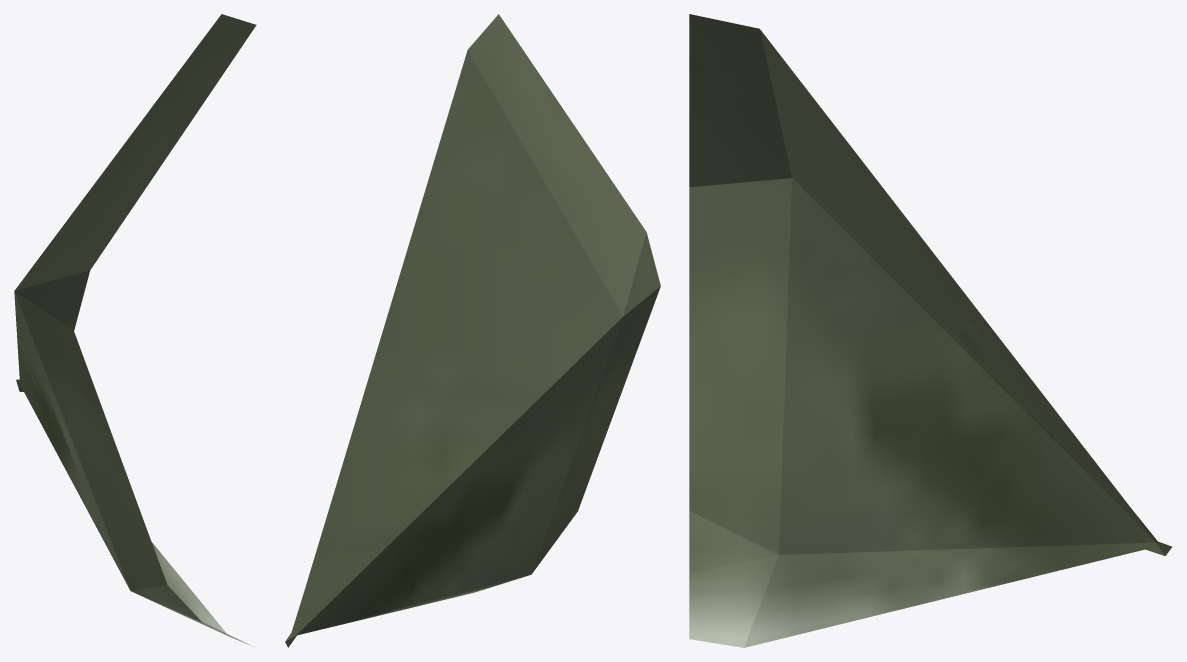
3 renders of one model, left to right at view 1: azimuth 30°, elevation 25°; view 2: azimuth 150°, elevation 25°; view 3: azimuth 270°, elevation 25°, orthographic. The views are drawn at different scales.
Bounding box in the file's own units: 0.0965 × 0.3044 × 0.2102.
1 material, 1 textured.
